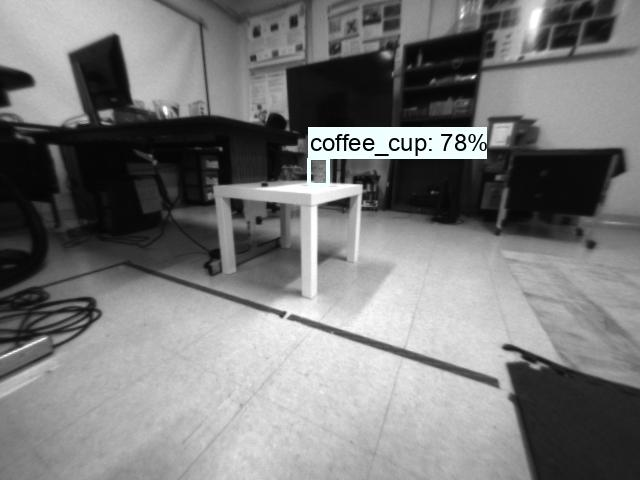coffee_cup: (309, 158, 329, 185)
